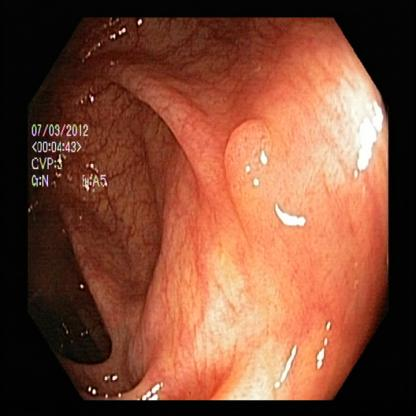Labels: (30, 108, 116, 200)
Polyps: (211, 108, 302, 234)
